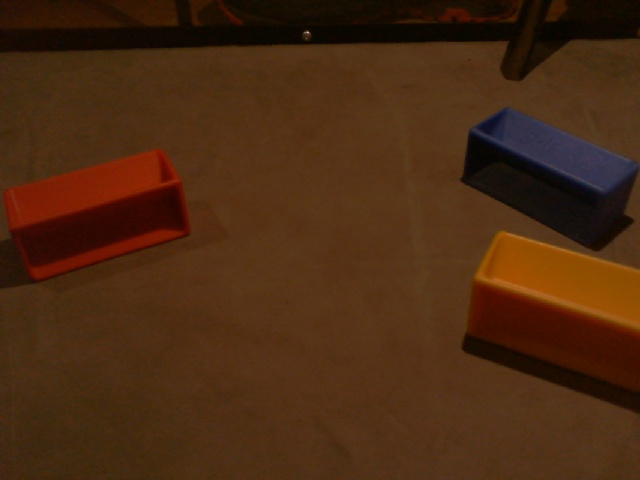BlueSample: (461, 105, 640, 252)
RedSample: (2, 146, 195, 286)
YellowSample: (466, 229, 640, 400)
